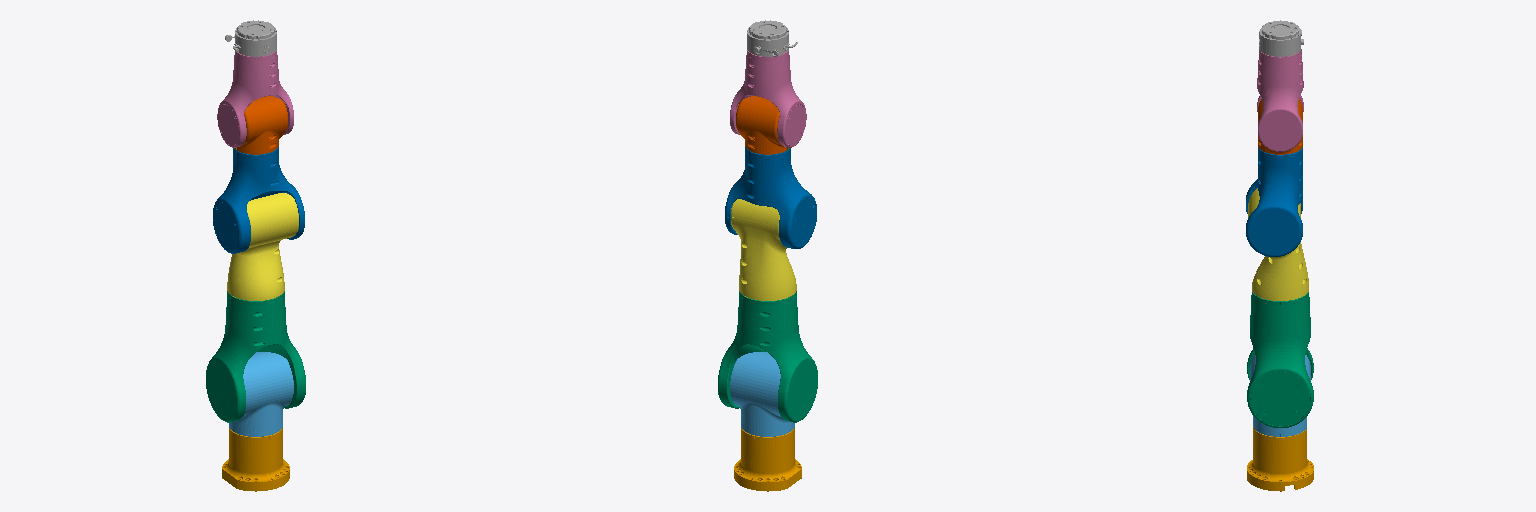
robot.urdf — DobotCR5:
<?xml version="1.0" ?>
<!-- =================================================================================== -->
<!-- |    This document was autogenerated by xacro from robot.xacro                    | -->
<!-- |    EDITING THIS FILE BY HAND IS NOT RECOMMENDED                                 | -->
<!-- =================================================================================== -->
<robot name="DobotCR5">
  <!-- Arm Base Link -->
  <link name="base_link">
    <inertial>
      <mass value="2.4"/>
      <inertia ixx="0.00397965" ixy="0.00000303" ixz="0.00000035" iyy="0.00315361" iyz="0.00002442" izz="0.00357979"/>
      <origin xyz="2.6805e-05 0.0011749210000000002 0.171179958"/>
    </inertial>
    <visual>
      <geometry>
        <mesh filename="package://rokae_ar5_description/meshes/base.obj" scale="1 1 1"/>
      </geometry>
    </visual>
    <collision>
      <geometry>
        <mesh filename="package://rokae_ar5_description/meshes/base.obj" scale="1 1 1"/>
      </geometry>
    </collision>
  </link>
  <!-- Joint 1 -->
  <joint name="joint1" type="revolute">
    <parent link="base_link"/>
    <child link="link1"/>
    <limit effort="108" lower="-3.1414" upper="3.1414" velocity="3.9269908169872414"/>
    <axis xyz="0 0 1"/>
    <origin rpy="0 0 1.5708" xyz="0.0 0.0 0.1745"/>
  </joint>
  <!-- Arm Link 1 -->
  <link name="link1">
    <inertial>
      <mass value="2.4"/>
      <inertia ixx="0.00397965" ixy="0.00000303" ixz="0.00000035" iyy="0.00315361" iyz="0.00002442" izz="0.00357979"/>
      <origin xyz="2.6805e-05 0.0011749210000000002 0.171179958"/>
    </inertial>
    <visual>
      <geometry>
        <mesh filename="package://rokae_ar5_description/meshes/link1.obj" scale="1 1 1"/>
      </geometry>
    </visual>
    <collision>
      <geometry>
        <mesh filename="package://rokae_ar5_description/meshes/link1.obj" scale="1 1 1"/>
      </geometry>
    </collision>
  </link>
  <!-- Joint 2 -->
  <joint name="joint2" type="revolute">
    <parent link="link1"/>
    <child link="link2"/>
    <limit effort="108" lower="-2.1293" upper="2.1293" velocity="3.9269908169872414"/>
    <axis xyz="0 -1 0"/>
  </joint>
  <!-- Arm Link 2 -->
  <link name="link2">
    <inertial>
      <mass value="2.26"/>
      <inertia ixx="0.00998456" ixy="0.00000011" ixz="-0.00000049" iyy="0.00864243" iyz="0.00070944" izz="0.00397909"/>
      <origin xyz="1.0382e-05 -0.003330598 0.100666568"/>
    </inertial>
    <visual>
      <geometry>
        <mesh filename="package://rokae_ar5_description/meshes/link2.obj" scale="1 1 1"/>
      </geometry>
    </visual>
    <collision>
      <geometry>
        <mesh filename="package://rokae_ar5_description/meshes/link2.obj" scale="1 1 1"/>
      </geometry>
    </collision>
  </link>
  <!-- Joint 3 -->
  <joint name="joint3" type="revolute">
    <parent link="link2"/>
    <child link="link3"/>
    <limit effort="66" lower="-3.1416" upper="3.1416" velocity="5.235987755982989"/>
    <axis xyz="0 0 1"/>
    <origin rpy="0 0 3.1415926535" xyz="0.0 0.0 0.305"/>
  </joint>
  <!-- Arm Link 3 -->
  <link name="link3">
    <inertial>
      <mass value="1.85"/>
      <inertia ixx="0.00514901" ixy="0.00000705" ixz="0.00033523" iyy="0.00455840" iyz="0.00005313" izz="0.00249866"/>
      <origin xyz="-0.007574792 0.001848523 -0.017501298"/>
    </inertial>
    <visual>
      <geometry>
        <mesh filename="package://rokae_ar5_description/meshes/link3.obj" scale="1 1 1"/>
      </geometry>
    </visual>
    <collision>
      <geometry>
        <mesh filename="package://rokae_ar5_description/meshes/link3.obj" scale="1 1 1"/>
      </geometry>
    </collision>
  </link>
  <!-- Joint 4 -->
  <joint name="joint4" type="revolute">
    <parent link="link3"/>
    <child link="link4"/>
    <limit effort="66" lower="-1.3963" upper="2.5307" velocity="5.235987755982989"/>
    <axis xyz="0 1 0"/>
    <origin xyz="0.01 0.0 0.0"/>
  </joint>
  <!-- Arm Link 4 -->
  <link name="link4">
    <inertial>
      <mass value="1.19"/>
      <inertia ixx="0.00358515" ixy="-0.00005009" ixz="-0.00016645" iyy="0.00288820" iyz="0.00041392" izz="0.00173347"/>
      <origin xyz="0.007943048 -0.005043471 0.070013368"/>
    </inertial>
    <visual>
      <geometry>
        <mesh filename="package://rokae_ar5_description/meshes/link4.obj" scale="1 1 1"/>
      </geometry>
    </visual>
    <collision>
      <geometry>
        <mesh filename="package://rokae_ar5_description/meshes/link4.obj" scale="1 1 1"/>
      </geometry>
    </collision>
  </link>
  <!-- Joint 5 -->
  <joint name="joint5" type="revolute">
    <parent link="link4"/>
    <child link="link5"/>
    <limit effort="19" lower="-3.1416" upper="3.1416" velocity="4.1887902047863905"/>
    <axis xyz="0 0 1"/>
    <origin xyz="-0.01 0.0 0.179"/>
  </joint>
  <!-- Arm Link 5 -->
  <link name="link5">
    <inertial>
      <mass value="0.95"/>
      <inertia ixx="0.00094370" ixy="0.00000057" ixz="0.00000060" iyy="0.00071483" iyz="0.00000919" izz="0.00086730"/>
      <origin xyz="1.2128e-05 0.001731178 -0.0026525620000000002"/>
    </inertial>
    <visual>
      <geometry>
        <mesh filename="package://rokae_ar5_description/meshes/link5.obj" scale="1 1 1"/>
      </geometry>
    </visual>
    <collision>
      <geometry>
        <mesh filename="package://rokae_ar5_description/meshes/link5.obj" scale="1 1 1"/>
      </geometry>
    </collision>
  </link>
  <!-- Joint 6 -->
  <joint name="joint6" type="revolute">
    <parent link="link5"/>
    <child link="link6"/>
    <limit effort="19" lower="-1.9722" upper="1.9722" velocity="4.1887902047863905"/>
    <axis xyz="0 1 0"/>
  </joint>
  <!-- Arm Link 6 -->
  <link name="link6">
    <inertial>
      <mass value="1.06"/>
      <inertia ixx="0.00230759" ixy="-0.00000067" ixz="0.00000072" iyy="0.00195677" iyz="0.00018711" izz="0.00103394"/>
      <origin xyz="-5.3371e-05 -0.0023381310000000002 0.07615395800000001"/>
    </inertial>
    <visual>
      <geometry>
        <mesh filename="package://rokae_ar5_description/meshes/link6.obj" scale="1 1 1"/>
      </geometry>
    </visual>
    <collision>
      <geometry>
        <mesh filename="package://rokae_ar5_description/meshes/link6.obj" scale="1 1 1"/>
      </geometry>
    </collision>
  </link>
  <!-- Joint 7 -->
  <joint name="joint7" type="revolute">
    <parent link="link6"/>
    <child link="link7"/>
    <limit effort="19" lower="-3.1416" upper="3.1416" velocity="4.1887902047863905"/>
    <axis xyz="0 0 1"/>
    <origin xyz="0.0 0.0 0.166"/>
  </joint>
  <!-- Arm Link 7 -->
  <link name="link7">
    <inertial>
      <mass value="0.18"/>
      <inertia ixx="0.00009976" ixy="0.00000139" ixz="0.00000025" iyy="0.00009671" iyz="0.00000036" izz="0.00014828"/>
      <origin xyz="-0.000158025 3.6244e-05 -0.017928215"/>
    </inertial>
    <visual>
      <geometry>
        <mesh filename="package://rokae_ar5_description/meshes/link7.obj" scale="1 1 1"/>
      </geometry>
    </visual>
    <collision>
      <geometry>
        <mesh filename="package://rokae_ar5_description/meshes/link7.obj" scale="1 1 1"/>
      </geometry>
    </collision>
  </link>
</robot>

--- Facts derived from the render (not from the file) ---
The picture shows the robot from 3 angles, left to right: view 1: azimuth 30°, elevation 25°; view 2: azimuth 150°, elevation 25°; view 3: azimuth 270°, elevation 25°; orthographic projection.
Robot: DobotCR5 — 8 links, 7 joints (7 revolute); root link base_link; default pose: all joints at 0.
Links seen in each view (by area): view 1: link2, link3, link4, link1, link6, base_link, link5, link7; view 2: link2, link4, link3, link1, link6, base_link, link5, link7; view 3: link2, link4, link6, base_link, link3, link7, link1.
Link boxes in pixels (left/top/right/bottom): link2: left=206, top=291, right=305, bottom=422; link3: left=227, top=193, right=298, bottom=300; link4: left=213, top=146, right=304, bottom=253; link1: left=229, top=352, right=293, bottom=436; link6: left=217, top=50, right=293, bottom=147; base_link: left=222, top=428, right=289, bottom=491; link5: left=235, top=96, right=287, bottom=154; link7: left=225, top=20, right=276, bottom=56; link2: left=718, top=291, right=817, bottom=422; link4: left=725, top=146, right=816, bottom=248; link3: left=731, top=199, right=796, bottom=300; link1: left=730, top=352, right=794, bottom=436; link6: left=730, top=50, right=806, bottom=147; base_link: left=734, top=428, right=801, bottom=491; link5: left=736, top=96, right=788, bottom=154; link7: left=747, top=20, right=797, bottom=56; link2: left=1247, top=292, right=1313, bottom=427; link4: left=1246, top=147, right=1302, bottom=256; link6: left=1257, top=49, right=1303, bottom=151; base_link: left=1247, top=426, right=1313, bottom=491; link3: left=1248, top=188, right=1308, bottom=300; link7: left=1259, top=20, right=1303, bottom=56; link1: left=1250, top=355, right=1310, bottom=436.
Bounding box of the posed robot: 0.134 × 0.1145 × 0.8245 m (x, y, z).
8 mesh visuals loaded from 8 distinct referenced files (8 OBJ).